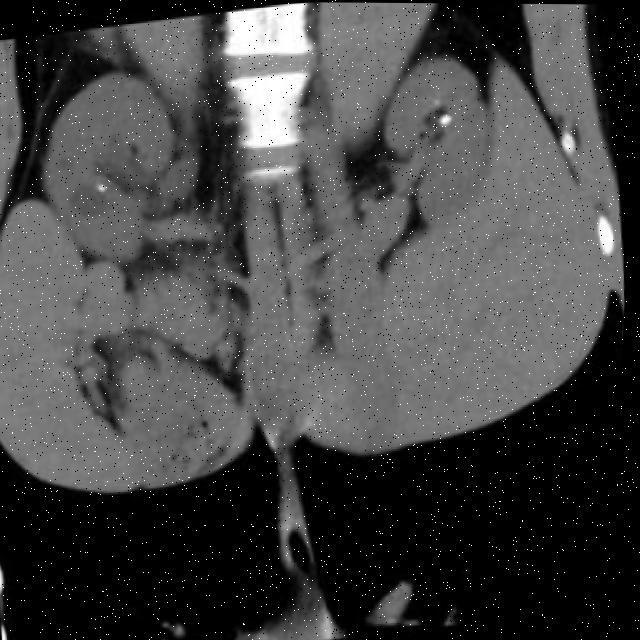Tas_Var: (436, 111, 455, 132), (96, 182, 111, 197), (430, 94, 442, 107)
